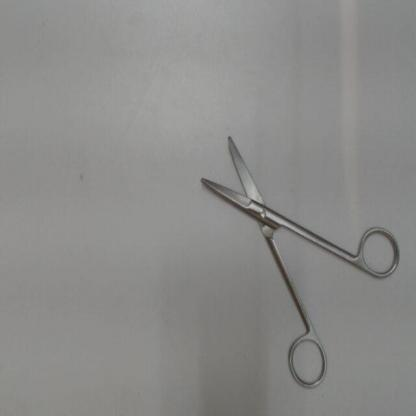Curved Mayo Scissors: (193, 123, 407, 397)
